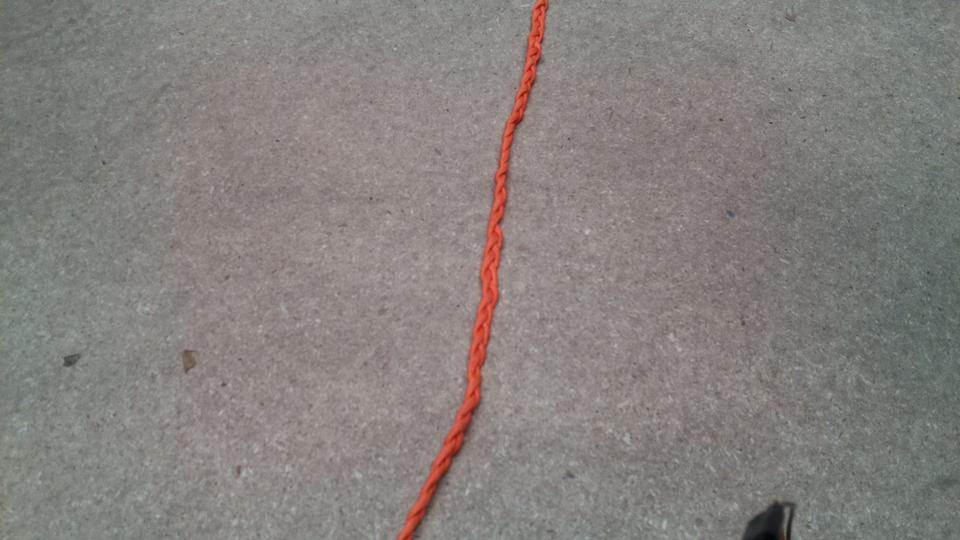rope: (387, 1, 554, 540)
